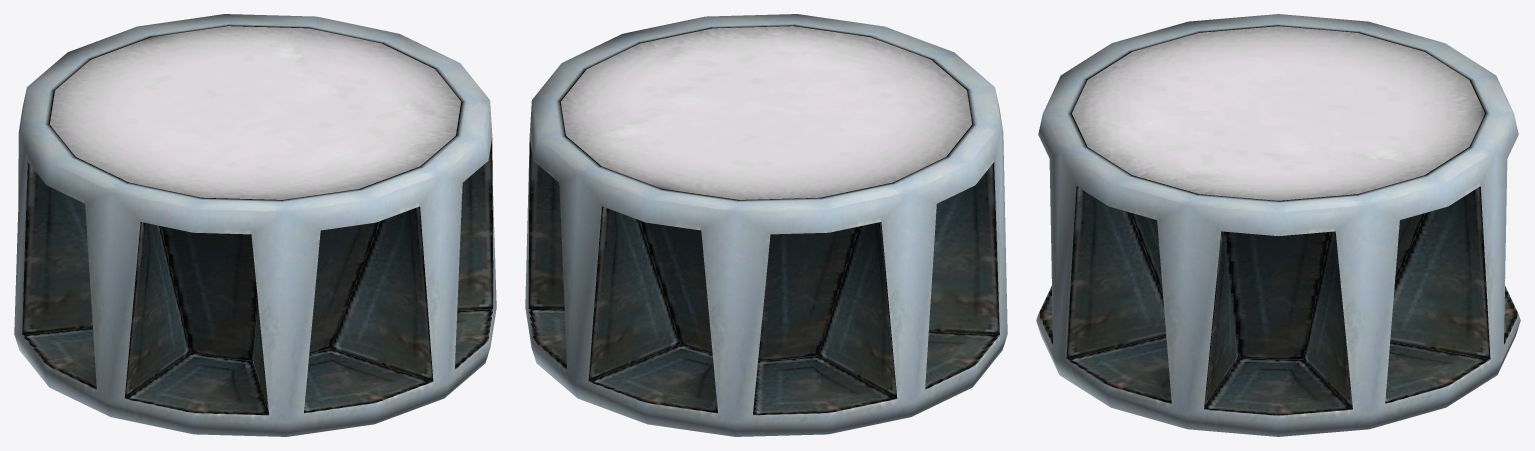
Rendered from thm_frn_table_s02_l1.fbx.
3 views of the same model, side by side, from view 1: azimuth 30°, elevation 25°; view 2: azimuth 150°, elevation 25°; view 3: azimuth 270°, elevation 25° (orthographic).
Parts seen in each view (by area): view 1: mesh_node; view 2: mesh_node; view 3: mesh_node.
Boxes of the visible parts, x1,y1,x2,y2 form: mesh_node: (14,14,496,436); mesh_node: (525,14,1007,436); mesh_node: (1036,14,1520,436).
Size of the model in its own units: 1.45 by 0.7502 by 1.45.
Materials: 1 (1 with a texture image).
